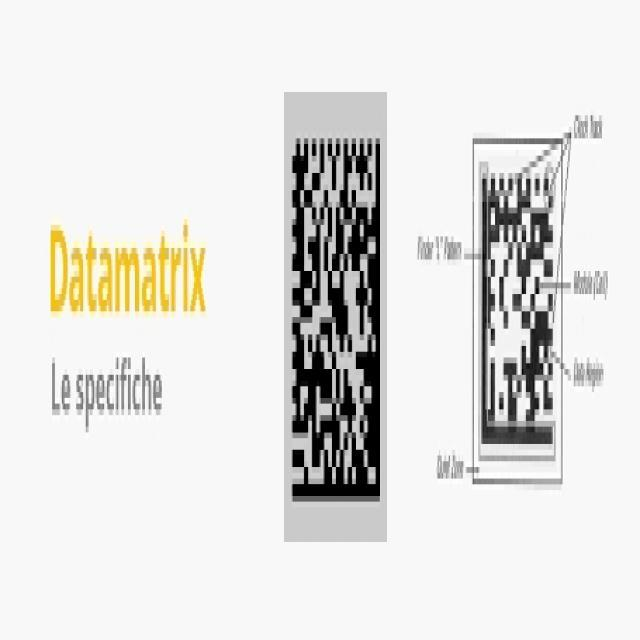Data-Matrix: (284, 92, 387, 542), (478, 156, 557, 472)
